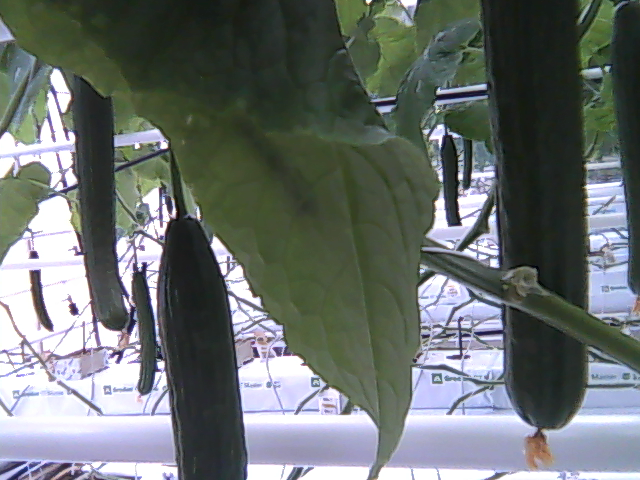concombre: (480, 1, 595, 468), (155, 206, 251, 480), (68, 70, 130, 341), (612, 1, 640, 320)
